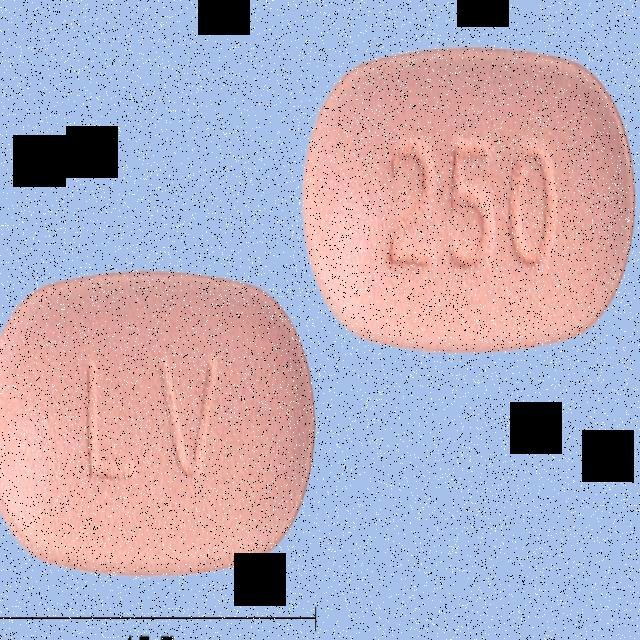Lexacin: (304, 48, 635, 350), (0, 273, 312, 572)
